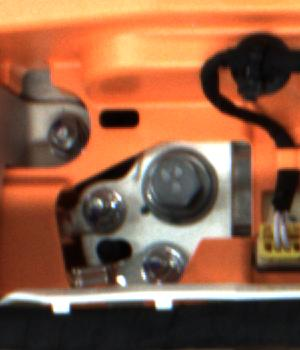nut_b: (139, 147, 222, 223)
screw_s: (126, 242, 184, 285), (74, 180, 115, 223), (47, 118, 91, 156)
